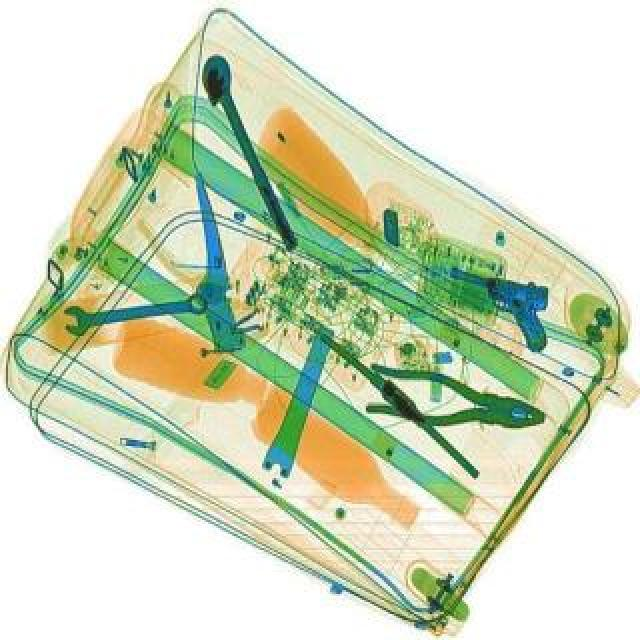gun: (432, 262, 562, 356)
scissors: (62, 282, 212, 338)
wrench: (360, 360, 550, 444)
